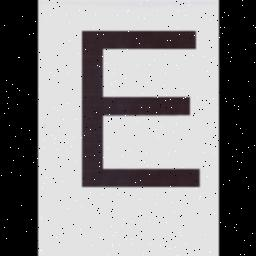e: (69, 22, 209, 194)
